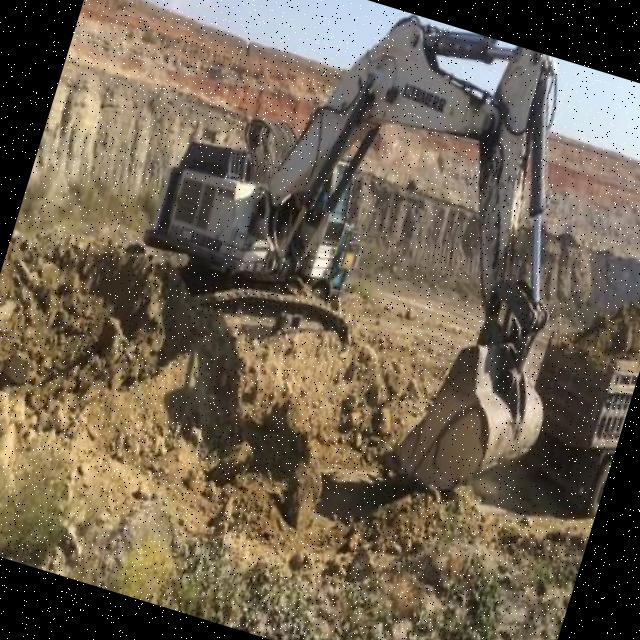Dump Truck: (497, 264, 640, 517)
Excavator: (95, 0, 640, 518)
